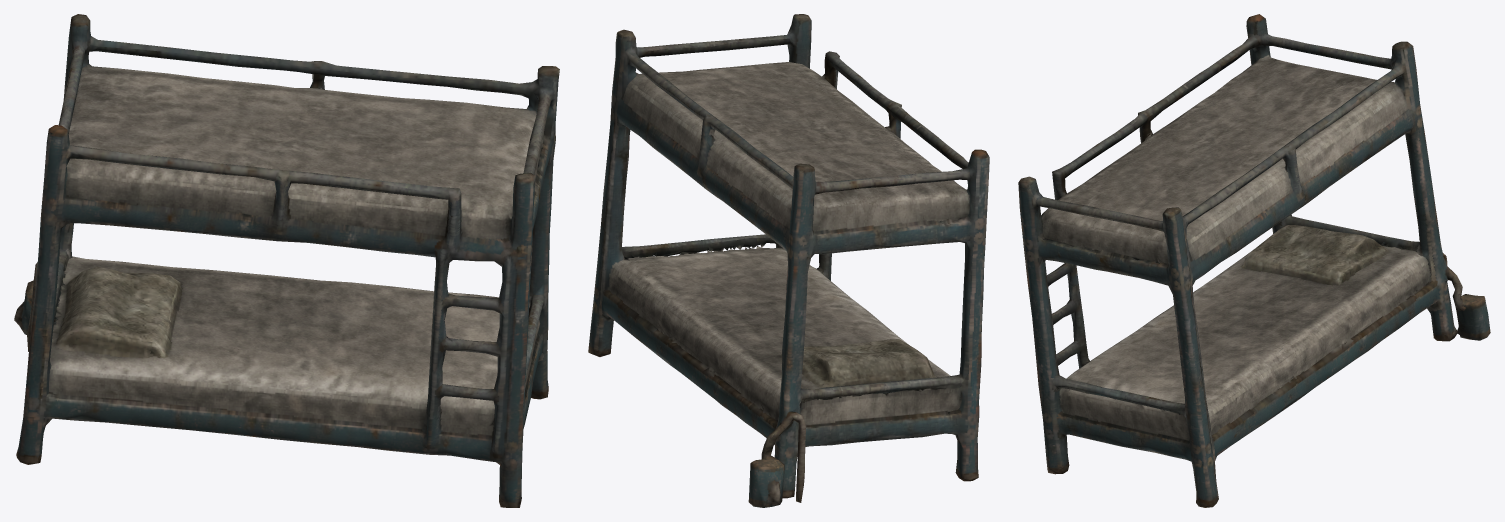
File: raw.glb
The picture shows the model from 3 angles, left to right: view 1: azimuth 30°, elevation 25°; view 2: azimuth 150°, elevation 25°; view 3: azimuth 270°, elevation 25°; orthographic projection. The views are drawn at different scales.
Bounding box in the file's own units: 0.9105 × 0.7148 × 0.9141.
1 material, 1 textured.
